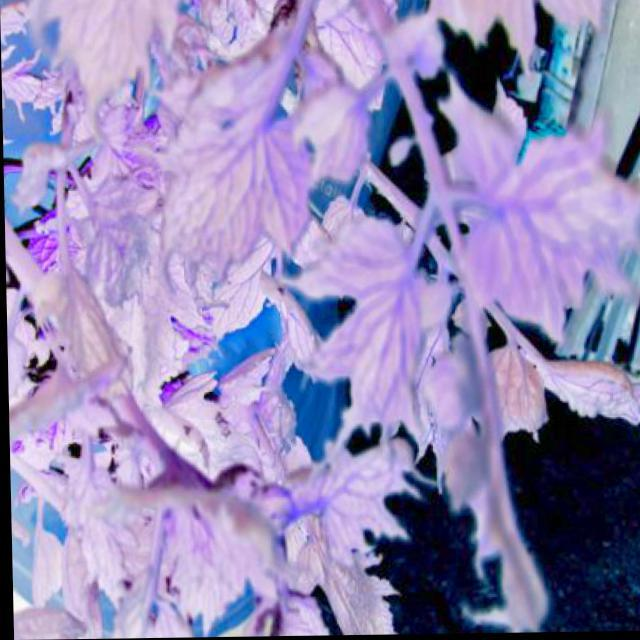Tomato yellow virus leaf: (426, 82, 639, 331), (161, 96, 314, 278), (318, 220, 448, 418), (300, 449, 417, 562), (159, 490, 250, 627), (193, 238, 284, 360), (532, 351, 639, 445)
